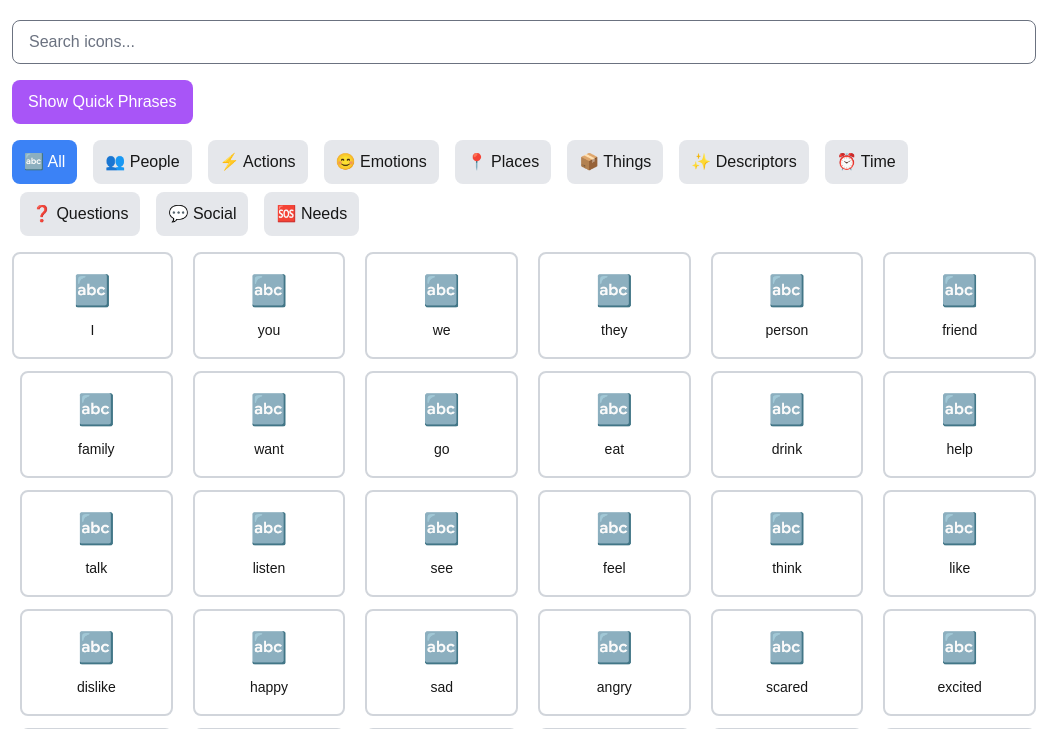
Test: AACIconSelector › Text-to-speech › should show stop button while speaking
The width and height of the screenshot is (1048, 729).
// Add icons
Click the button named "add I to sentence". click: (92, 306)
box: [12,252,173,359]
(page scrolled)
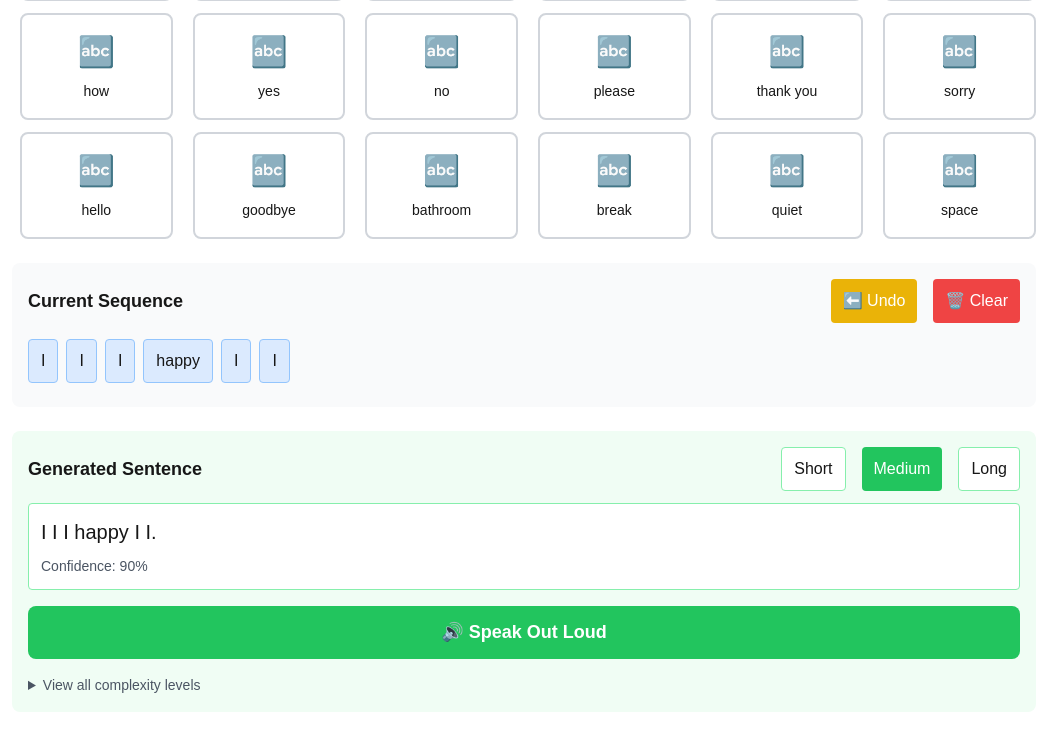
// Click speak button
Click the button with aria-label "speak sentence aloud". click: (524, 632)
box: [28,606,1020,659]
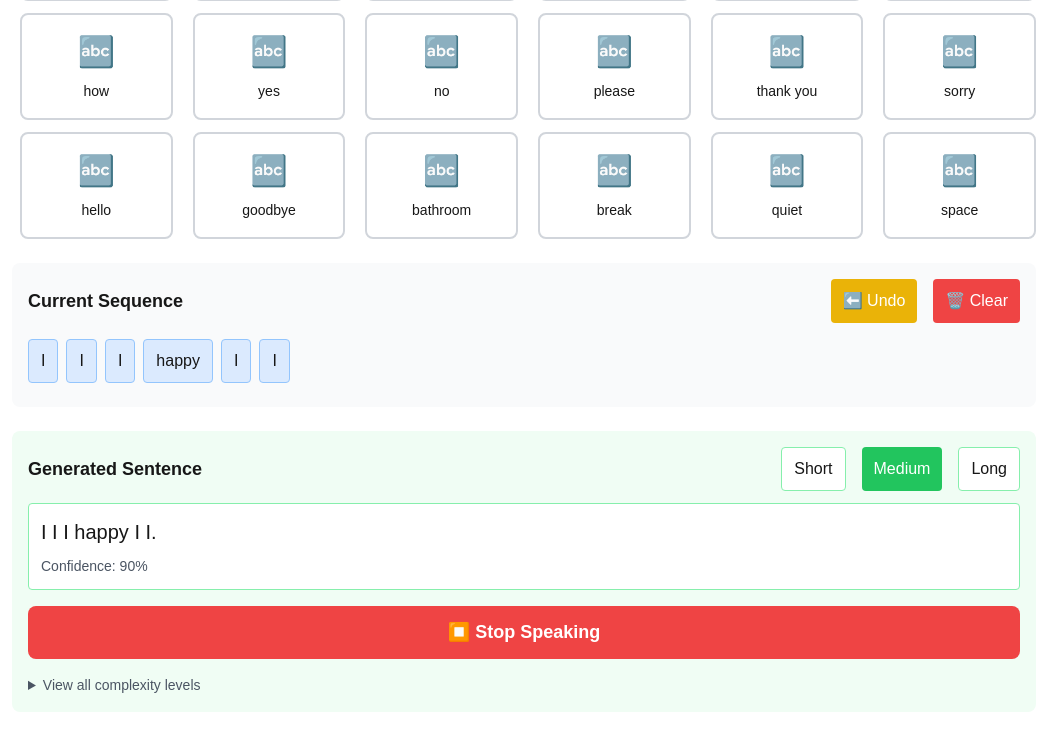
Expected: the button "⏹️ Stop Speaking" is shown, [28,606,1020,659]
